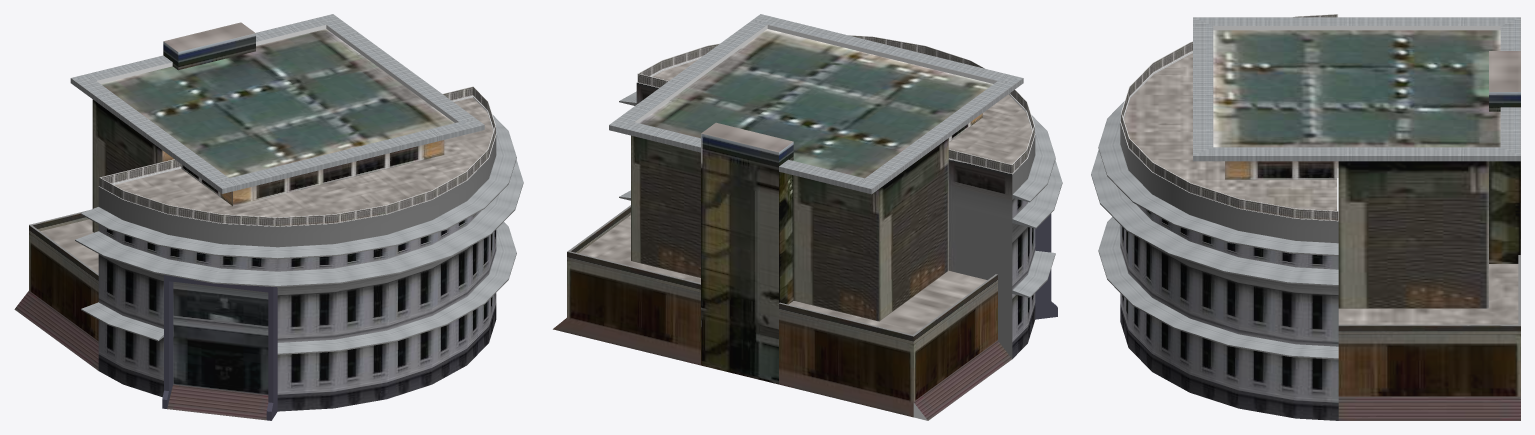
3 views of the same model, side by side, from view 1: azimuth 30°, elevation 25°; view 2: azimuth 150°, elevation 25°; view 3: azimuth 270°, elevation 25° (orthographic). The views are drawn at different scales.
Visible parts, largest first — view 1: HN782_BayBuffetRestaurent; view 2: HN782_BayBuffetRestaurent; view 3: HN782_BayBuffetRestaurent.
Boxes of the visible parts, x1=… form: HN782_BayBuffetRestaurent: x1=14, y1=14, x2=523, y2=420; HN782_BayBuffetRestaurent: x1=553, y1=14, x2=1062, y2=420; HN782_BayBuffetRestaurent: x1=1091, y1=14, x2=1520, y2=420.
Size of the model in its own units: 43.41 by 22.78 by 35.4.
Materials: 1 (1 with a texture image).
